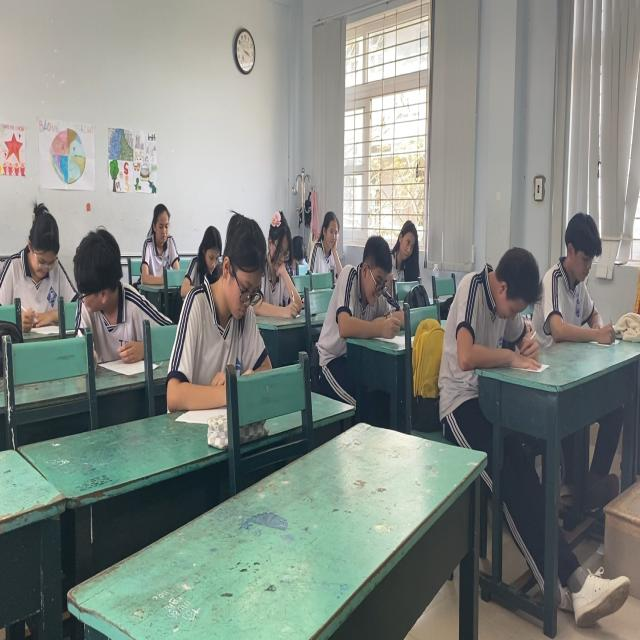cheating: (62, 222, 162, 350)
not_cheating: (182, 219, 270, 388), (434, 243, 538, 374), (536, 198, 626, 342), (316, 229, 397, 343), (8, 188, 65, 319), (125, 181, 185, 284), (257, 201, 302, 322), (312, 198, 351, 264), (392, 208, 421, 280)
